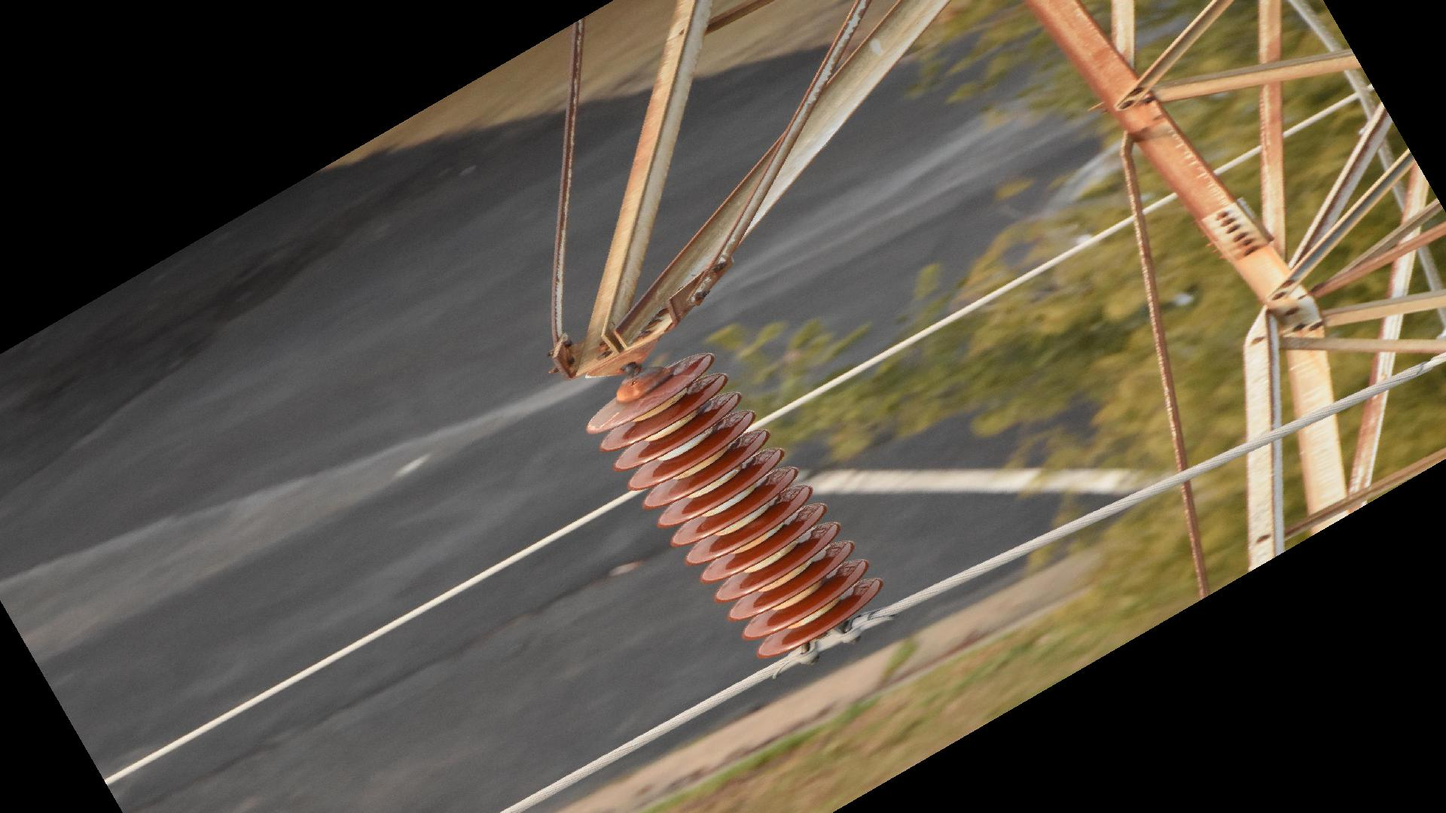insulator: (579, 349, 888, 665)
insulator_flashover: (582, 397, 627, 430)
